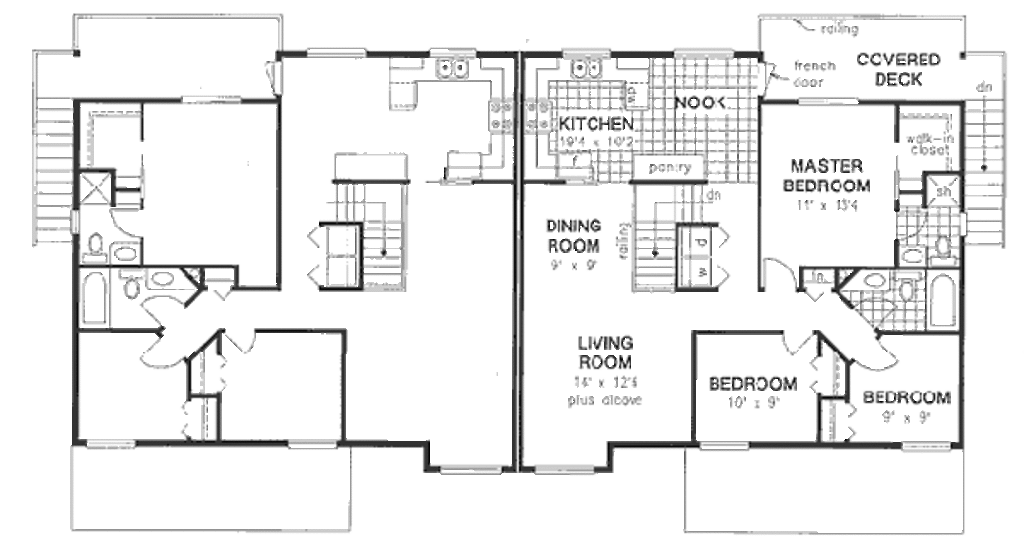door: (850, 337, 905, 379), (138, 293, 188, 329), (134, 336, 184, 369), (107, 206, 149, 239), (760, 255, 794, 293), (224, 322, 256, 354), (780, 328, 812, 355)
large_sink: (897, 266, 922, 302), (118, 267, 145, 300), (934, 232, 960, 266), (80, 229, 105, 262)
stairs: (328, 153, 413, 295), (21, 47, 70, 243), (630, 177, 711, 295), (959, 76, 1015, 246)
tub: (74, 270, 112, 328), (926, 270, 954, 324)
twin_sink: (428, 52, 476, 86), (568, 53, 603, 84)
window: (524, 450, 601, 482), (436, 462, 505, 480), (300, 41, 368, 59), (696, 434, 751, 455), (794, 94, 871, 108), (898, 434, 951, 454), (177, 95, 245, 110), (80, 436, 140, 453), (284, 434, 337, 449)
